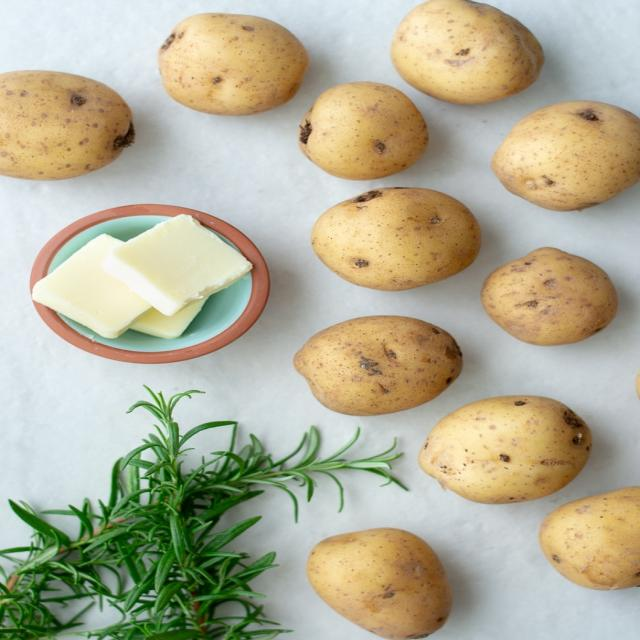potato: (309, 530, 447, 638), (479, 245, 621, 349), (549, 488, 640, 596)
